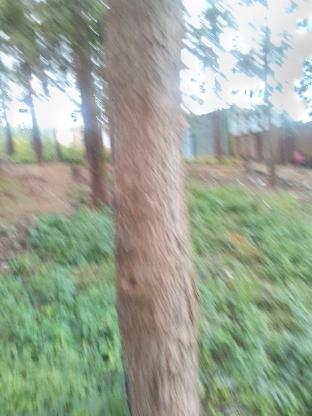tree: (96, 0, 220, 416)
